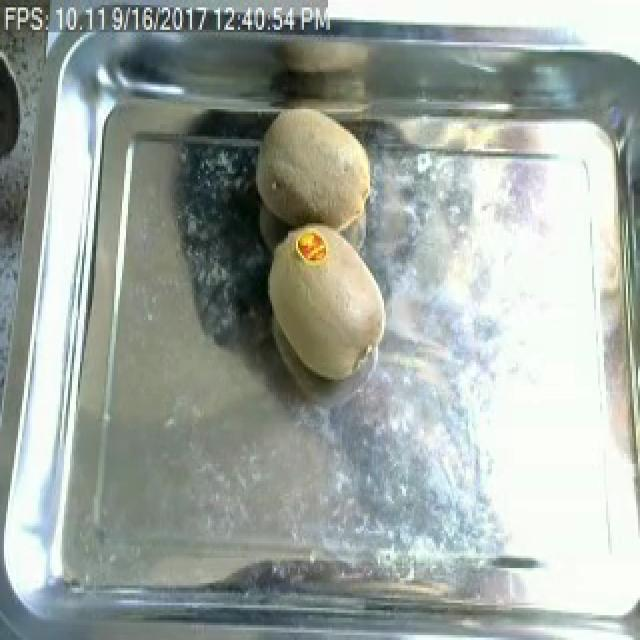Fruit: (254, 213, 394, 390), (240, 99, 384, 243)
